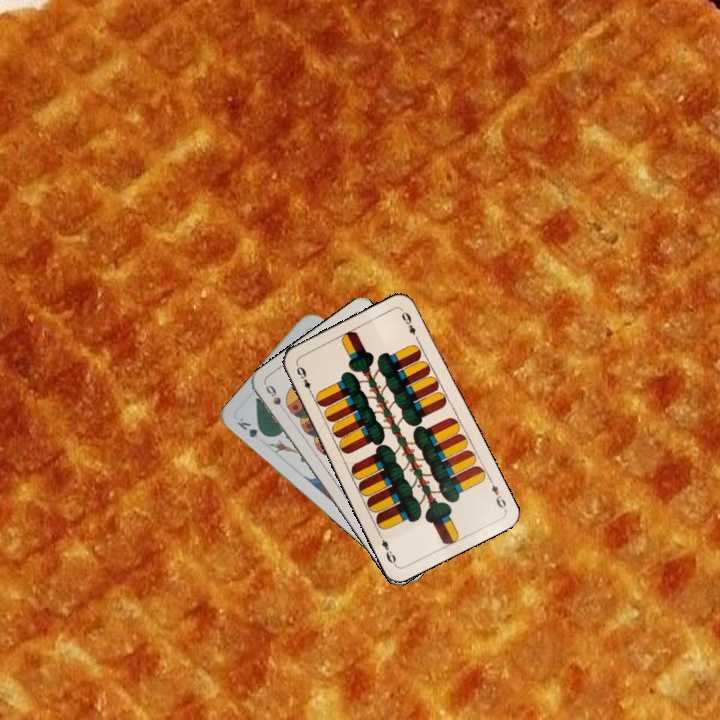E9: (292, 360, 316, 398), (485, 474, 509, 512)
GK: (233, 413, 270, 441)
S9: (262, 381, 290, 417)
